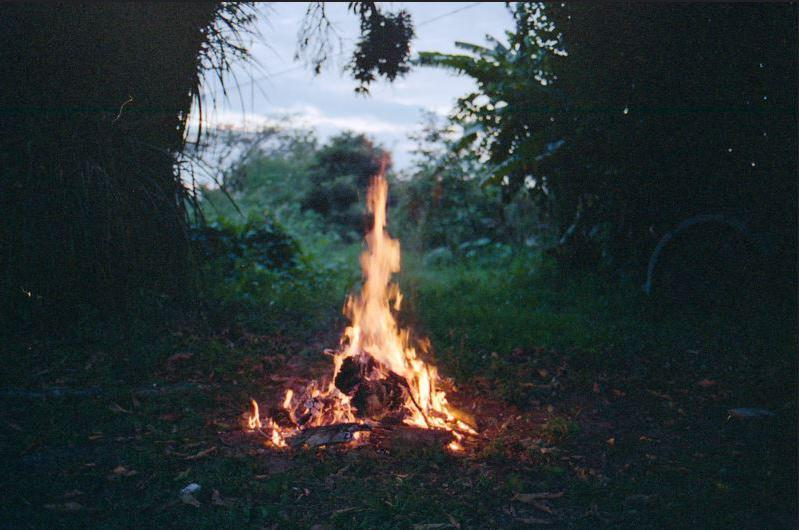Fire: (243, 153, 471, 461)
